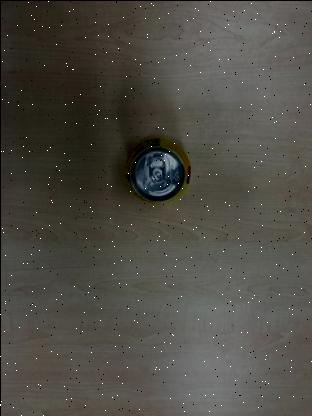Can: (123, 130, 191, 206)
